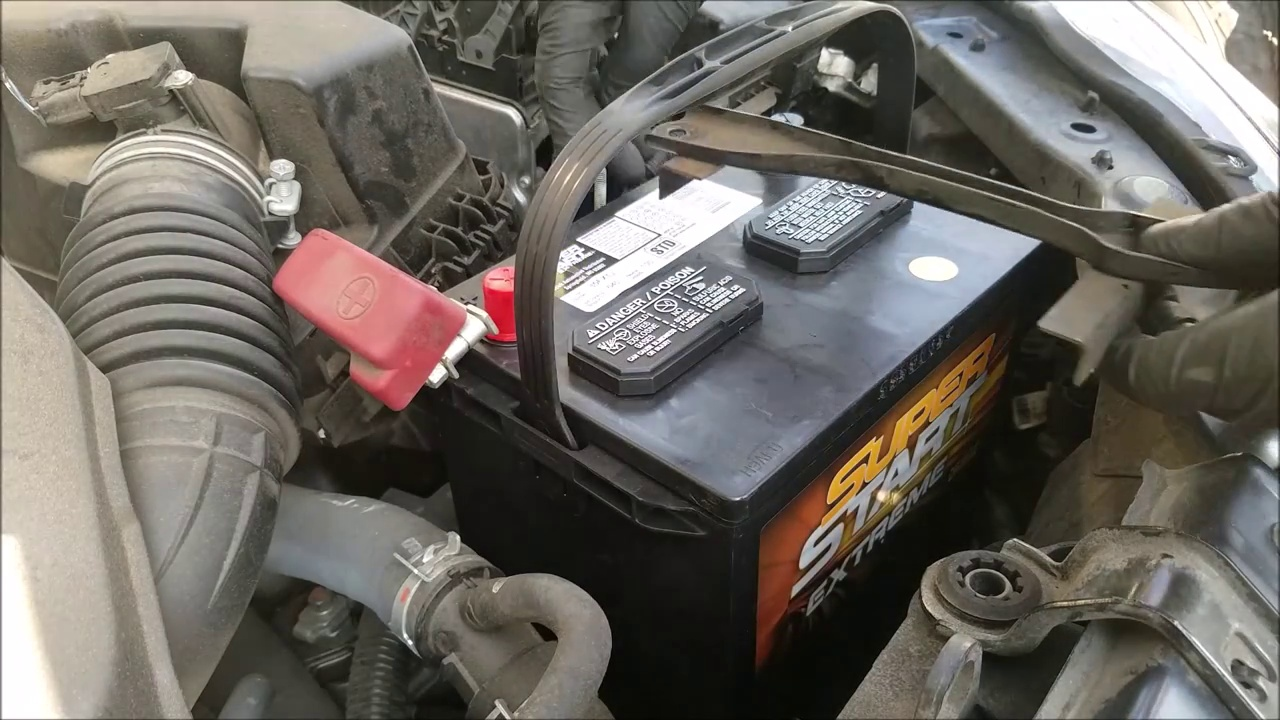battery: (424, 120, 1044, 515)
pos_disconnected: (308, 209, 538, 410)
